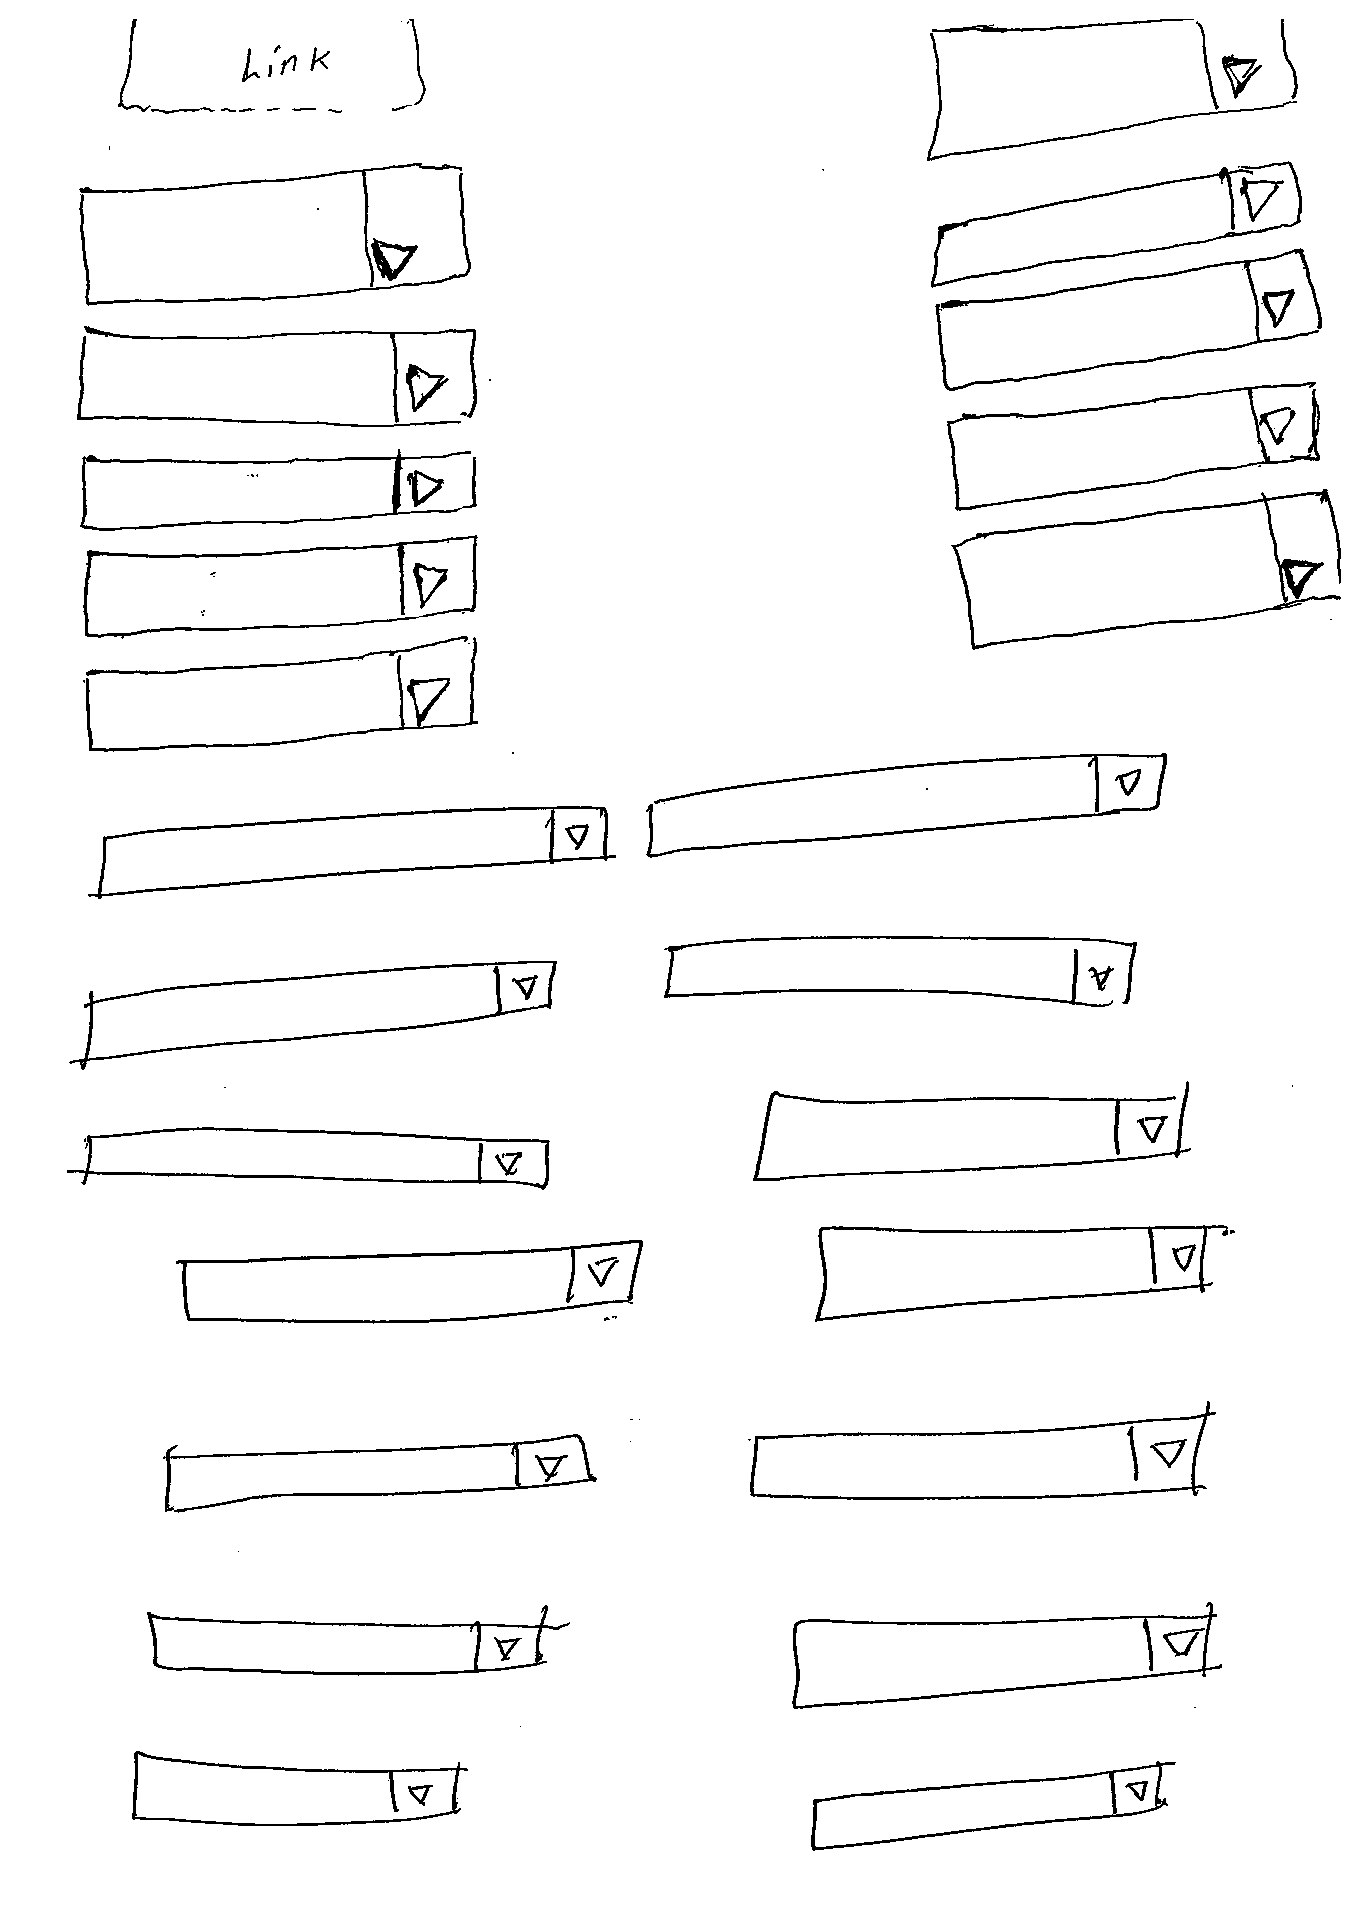Select: (78, 163, 472, 310), (646, 750, 1169, 861), (81, 958, 557, 1070), (95, 804, 611, 900), (948, 381, 1322, 513), (84, 634, 480, 754), (789, 1612, 1214, 1714), (72, 324, 480, 429), (81, 532, 478, 640), (748, 1411, 1209, 1501), (177, 1239, 645, 1326), (751, 1091, 1192, 1183), (815, 1223, 1211, 1322), (662, 933, 1137, 1010), (161, 1433, 599, 1516), (809, 1759, 1175, 1853), (78, 449, 479, 532), (81, 1127, 551, 1192), (145, 1609, 548, 1677), (130, 1749, 464, 1829)
